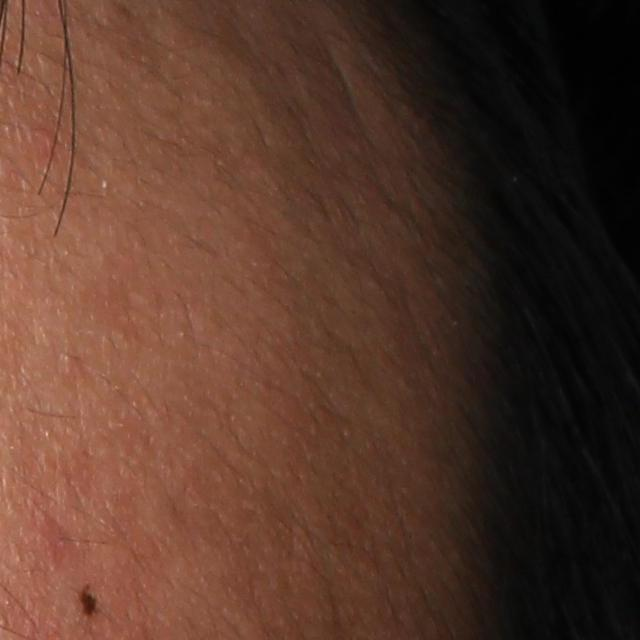nevus: (77, 584, 107, 623)
papule: (31, 125, 66, 169)
